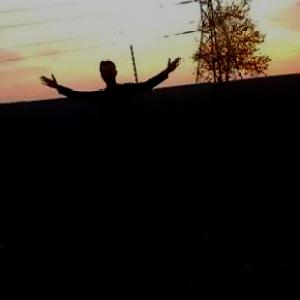takeoff: (54, 51, 202, 218)
